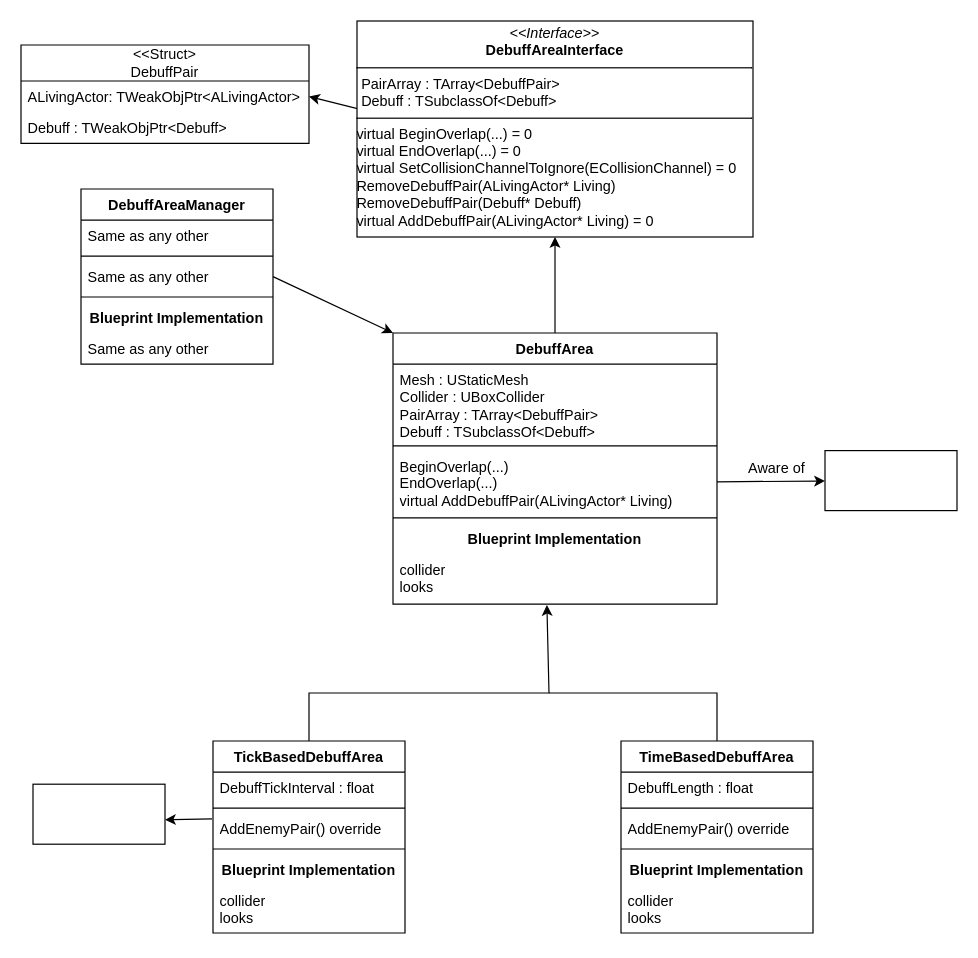
Some shapes in this 978 by 958 pixel diagram are drawn without their labels. The shapes that lost their labels are listed below. From the top down, each one's centre as x and y in pixels, then its label:
the point at 890,480: Debuff
the point at 98,813: TickBasedDebuff
